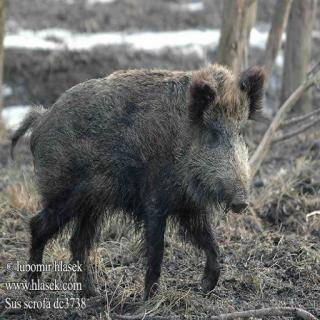Pig: (16, 38, 290, 270)
